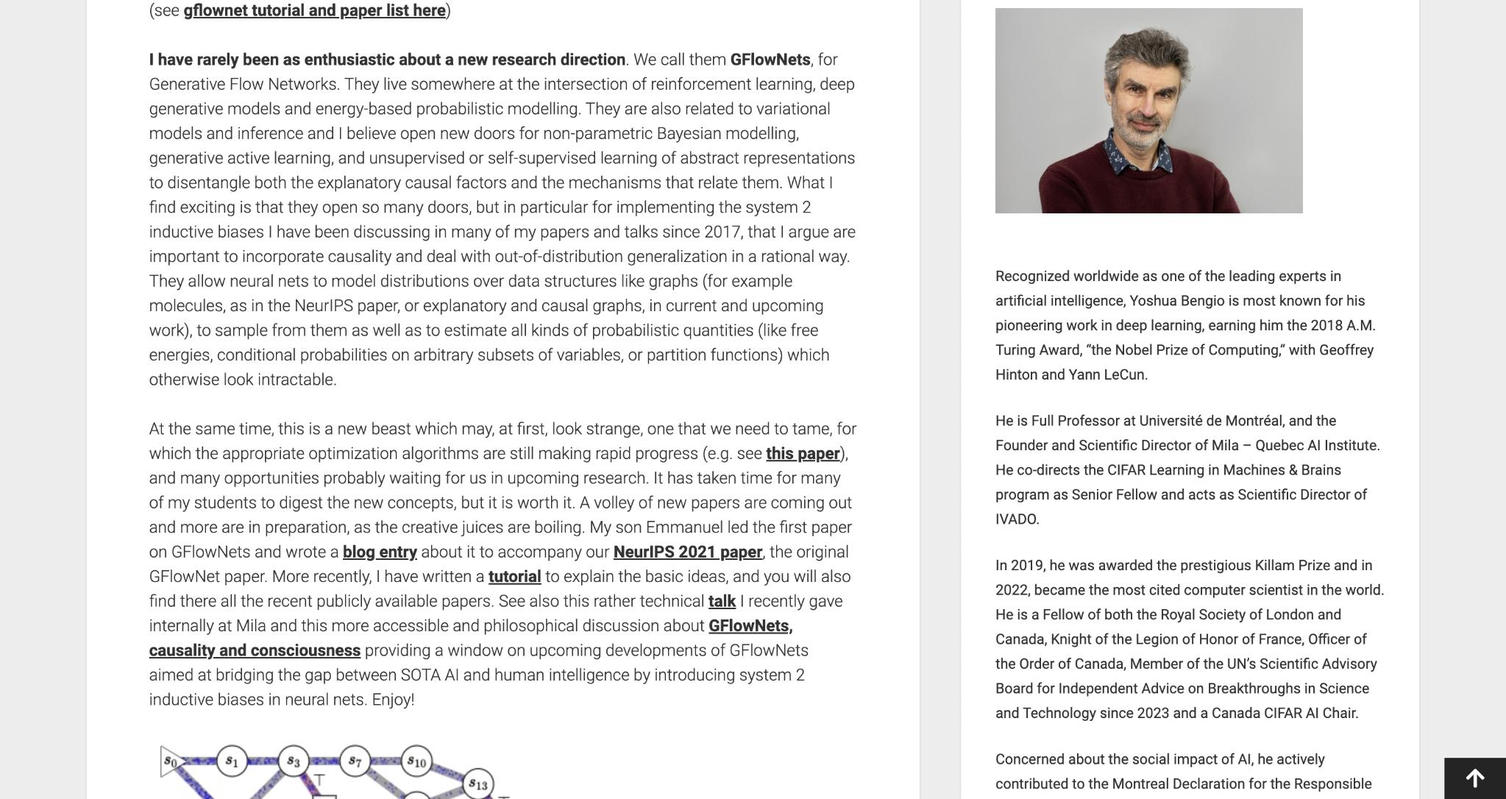webelement: (148, 46, 856, 391), (148, 415, 856, 710), (995, 553, 1384, 725), (995, 7, 1302, 212), (995, 412, 1379, 527), (995, 267, 1375, 382), (148, 615, 792, 658), (995, 580, 1384, 647), (995, 655, 1377, 721), (148, 736, 536, 799), (995, 750, 1371, 799), (995, 556, 1372, 598), (995, 630, 1366, 672), (183, 0, 445, 19), (1051, 630, 1308, 647), (1169, 704, 1358, 721), (612, 541, 761, 560), (1445, 757, 1506, 798), (995, 412, 1130, 429), (765, 442, 839, 461), (343, 541, 416, 560), (488, 565, 540, 584), (708, 590, 735, 609), (1130, 412, 1139, 429), (1123, 654, 1129, 671)
